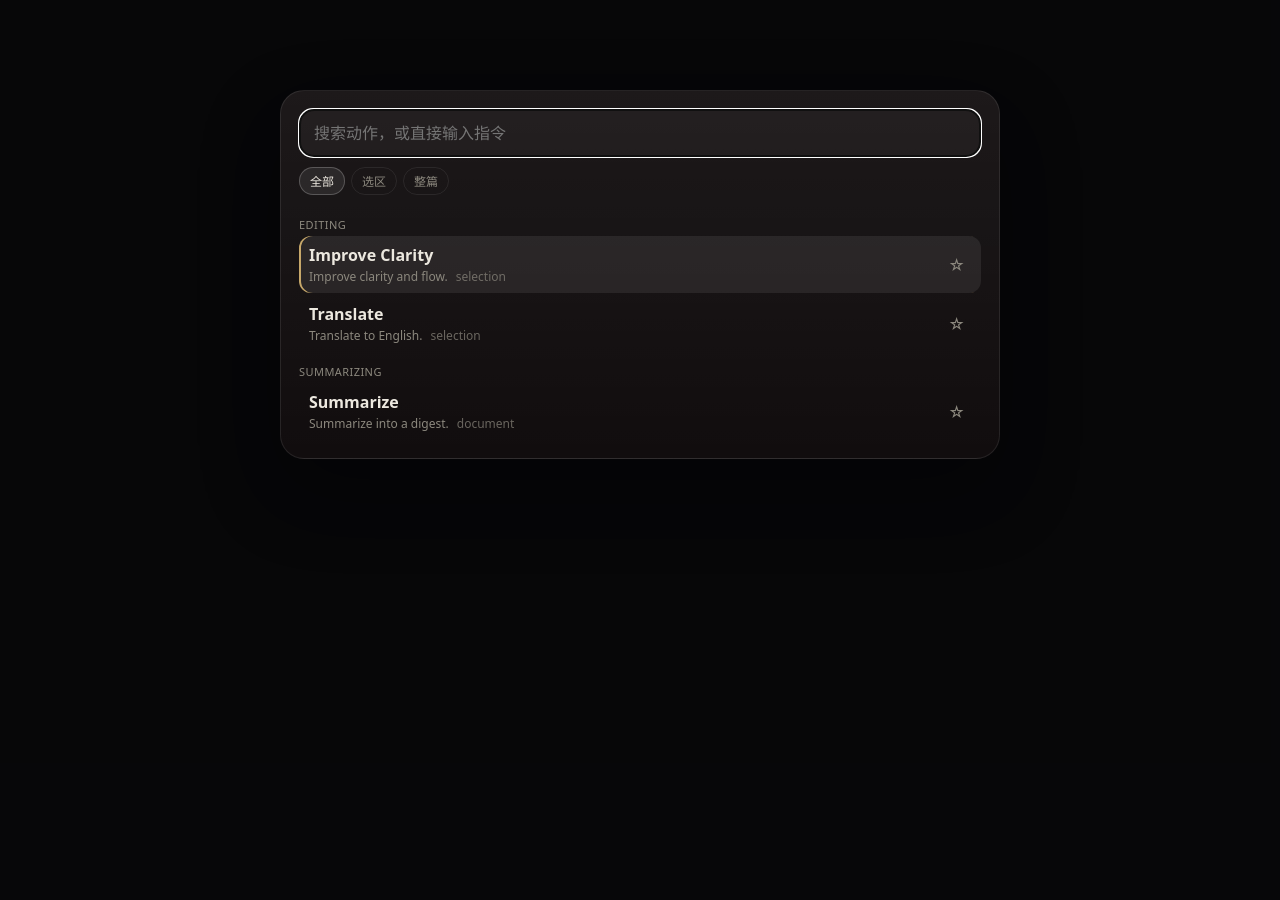
NotesNiaPicker › says so when nothing matches, instead of showing an empty list
The width and height of the screenshot is (1280, 900).
Check: the number of options is 3, box 299,236 -> 981,293; 299,295 -> 981,352; 299,383 -> 981,440
Step 1. Type "zzzznomatch" into the dropdown → (640, 133), box 299,109 -> 981,157
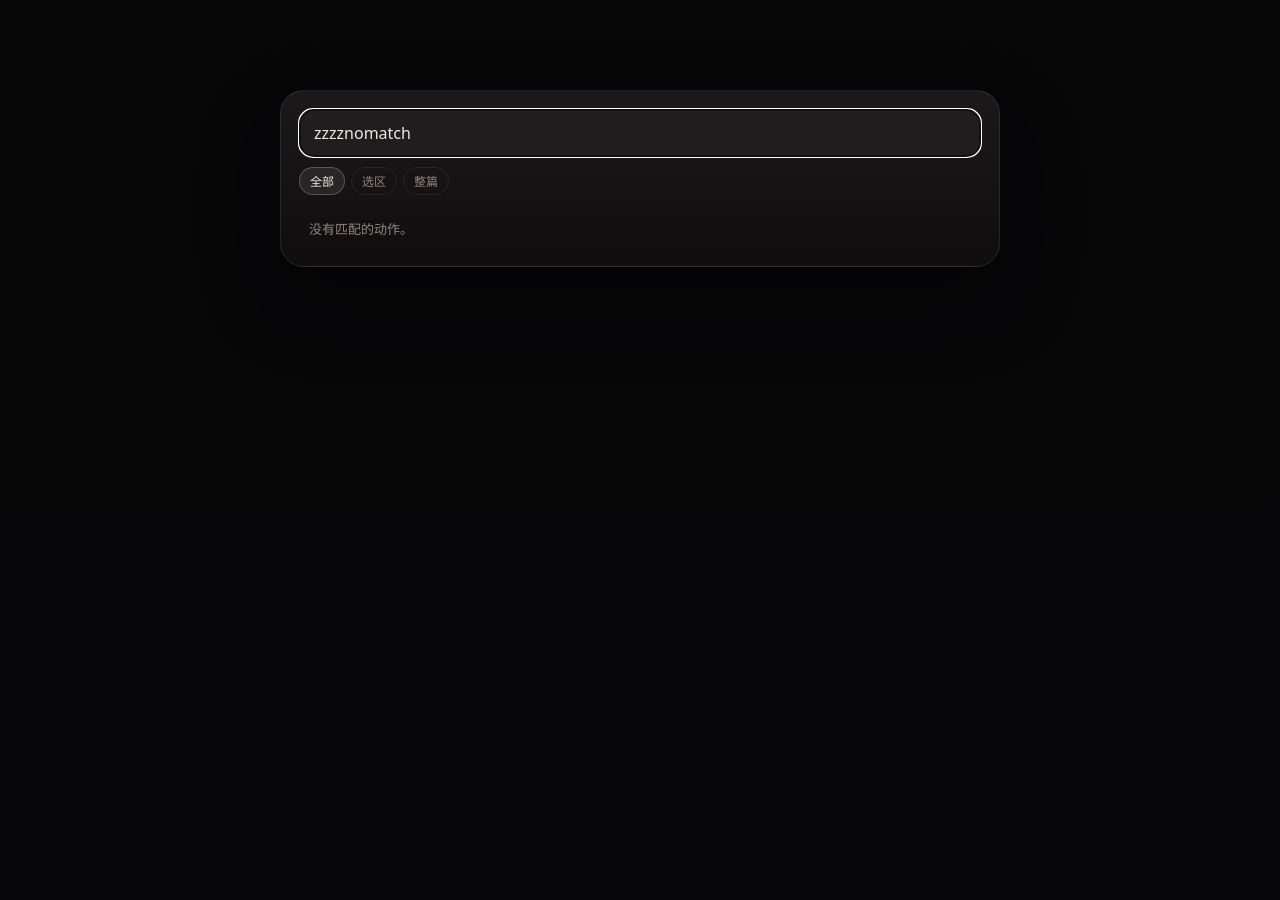
Check: the text "没有匹配的动作。" is shown, box 309,220 -> 413,238
